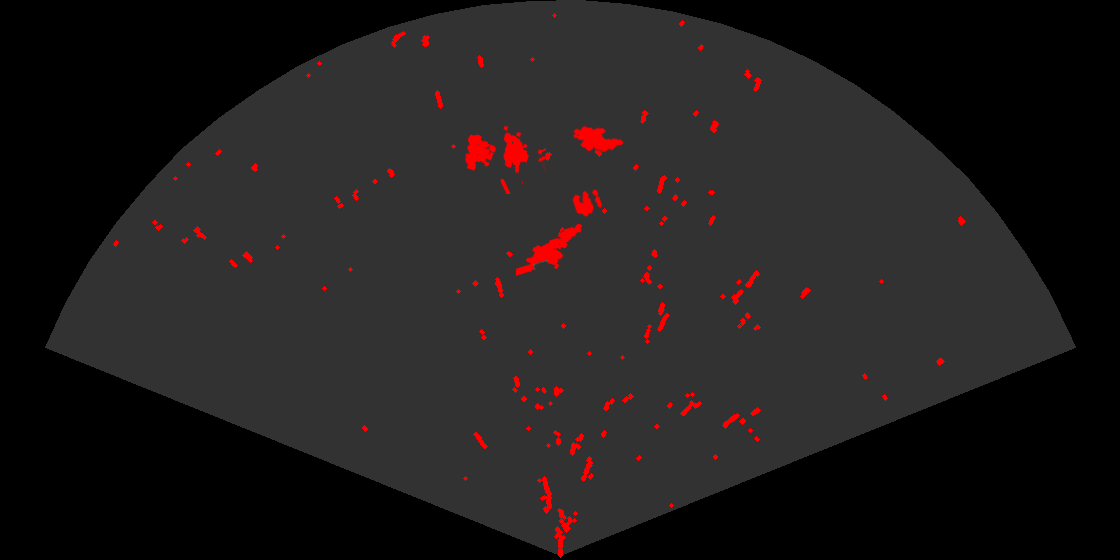AUV: (571, 124, 626, 153)
ball: (571, 187, 604, 218)
cage: (463, 124, 546, 194)
frogman: (516, 222, 584, 277)
